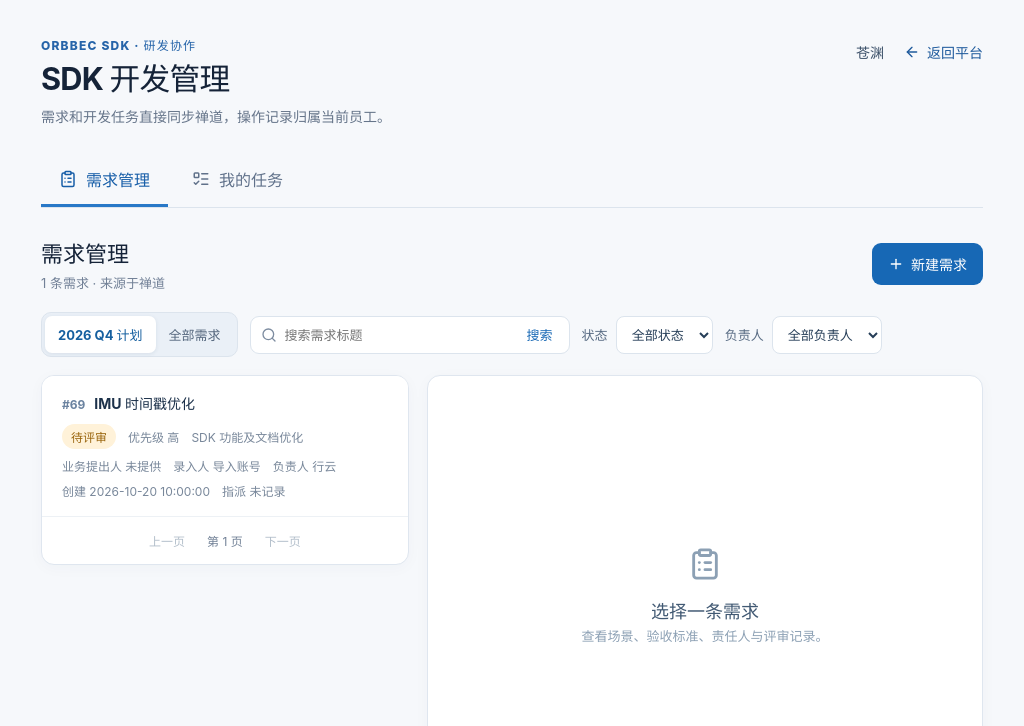
Test: opens a real requirement form with separate proposer, owner and reviewer
The image size is (1024, 726).
Click the button "新建需求" at (928,264), box [872,243,983,285]
(page scrolled)
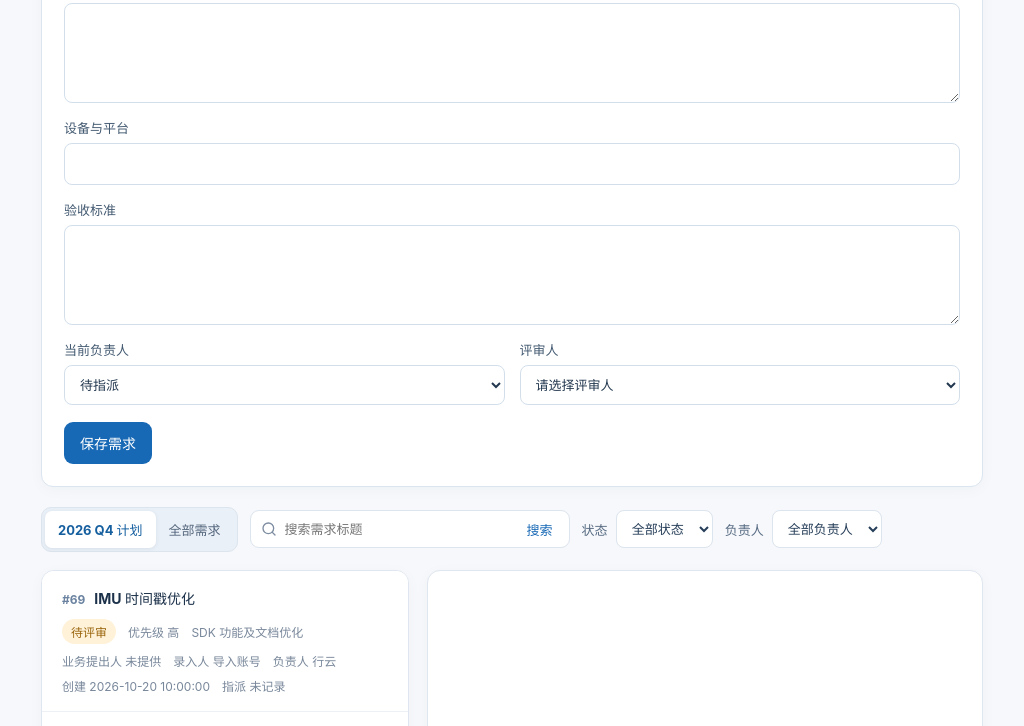
Expected: the dropdown named "assigned_to" is shown, [64,365,504,405]
Expected: the dropdown named "reviewer" is shown, [520,365,960,405]
